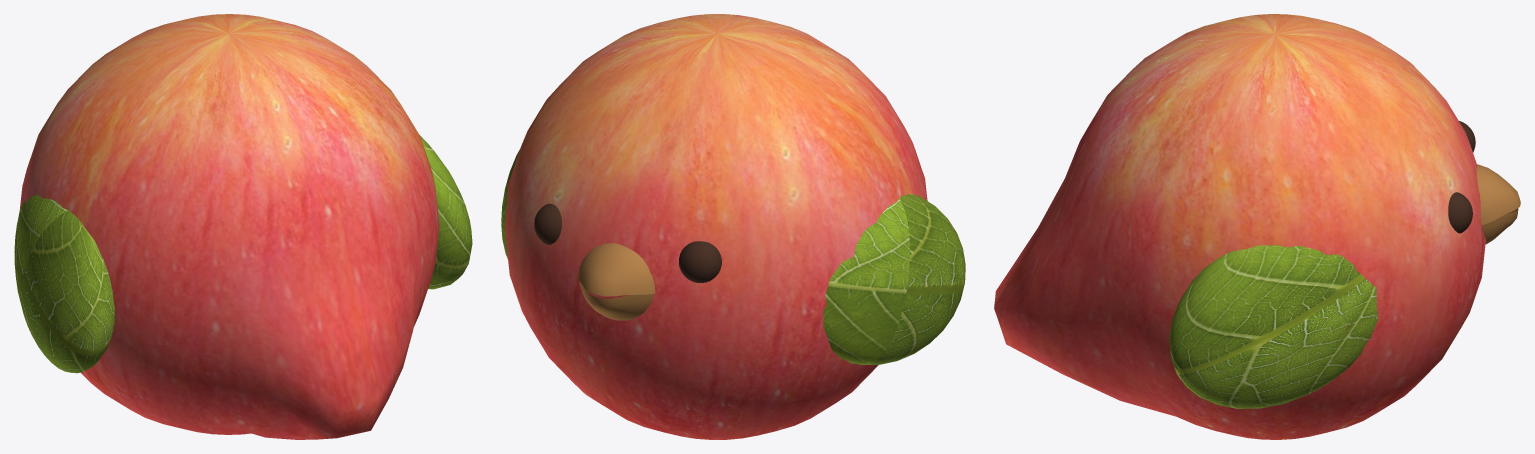
File: applebird.glb
The picture shows the model from 3 angles, left to right: view 1: azimuth 30°, elevation 25°; view 2: azimuth 150°, elevation 25°; view 3: azimuth 270°, elevation 25°; orthographic projection.
Parts seen in each view (by area): view 1: body, wing right, wing left; view 2: body, wing right, beak_Top, eye right, beak_bottom, eye left; view 3: body, wing left, beak_Top, eye left, beak_bottom.
Part boxes in pixels (x1=…): body: x1=19, y1=14, x2=439, y2=439; wing right: x1=14, y1=194, x2=114, y2=373; wing left: x1=420, y1=135, x2=472, y2=289; body: x1=505, y1=14, x2=927, y2=439; wing right: x1=823, y1=194, x2=965, y2=364; beak_Top: x1=577, y1=243, x2=655, y2=296; eye right: x1=679, y1=241, x2=721, y2=282; beak_bottom: x1=579, y1=281, x2=653, y2=320; eye left: x1=534, y1=203, x2=561, y2=244; body: x1=994, y1=14, x2=1485, y2=439; wing left: x1=1169, y1=245, x2=1378, y2=408; beak_Top: x1=1476, y1=164, x2=1520, y2=225; eye left: x1=1448, y1=192, x2=1472, y2=233; beak_bottom: x1=1481, y1=208, x2=1518, y2=244.
Bounding box in the file's own units: 0.2195 × 0.1948 × 0.2406.
4 materials, 2 textured.
